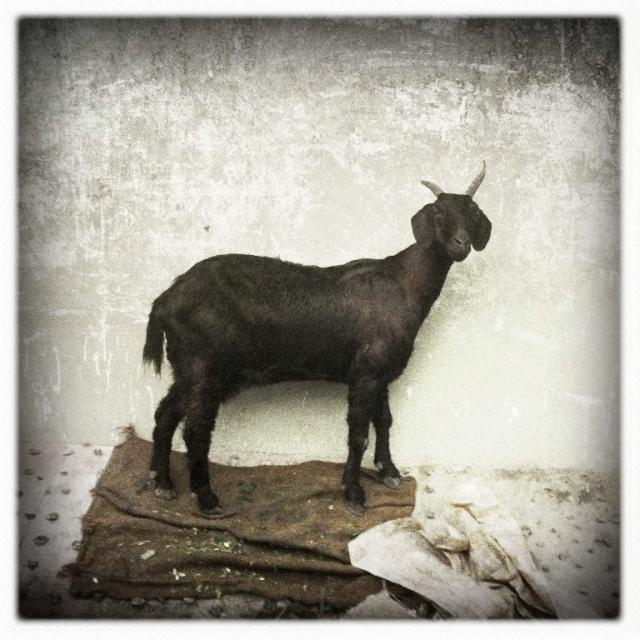Goat: (139, 158, 493, 517)
